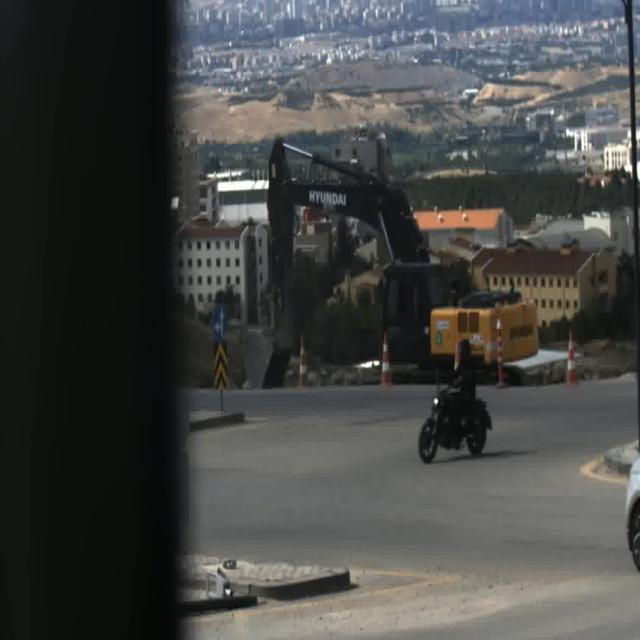Motorcycle: (415, 338, 491, 462)
